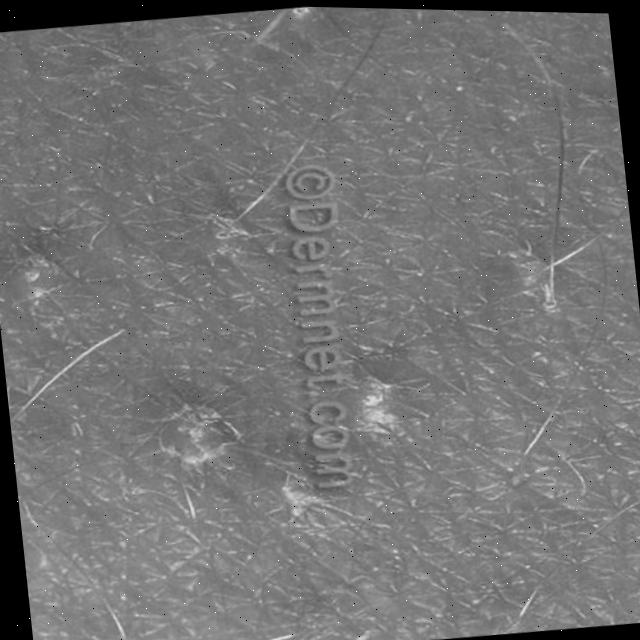Eczema: (0, 0, 640, 552)
